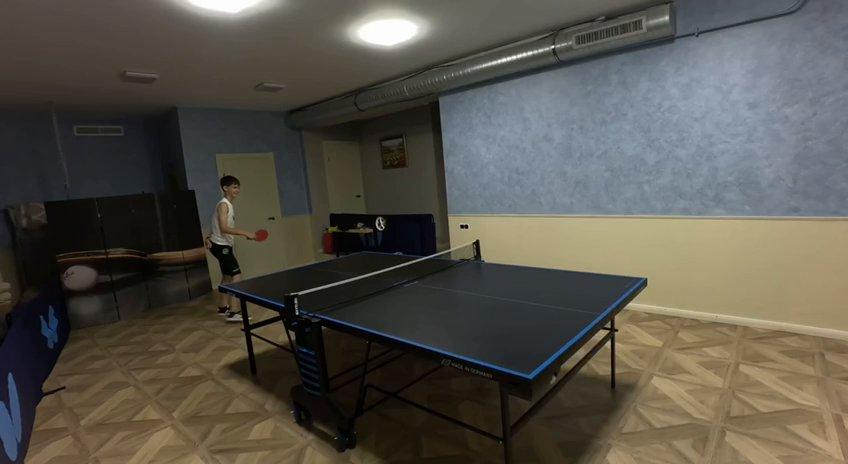Net: (280, 241, 481, 325)
Player1: (208, 175, 253, 283)
Table: (220, 250, 640, 376)
